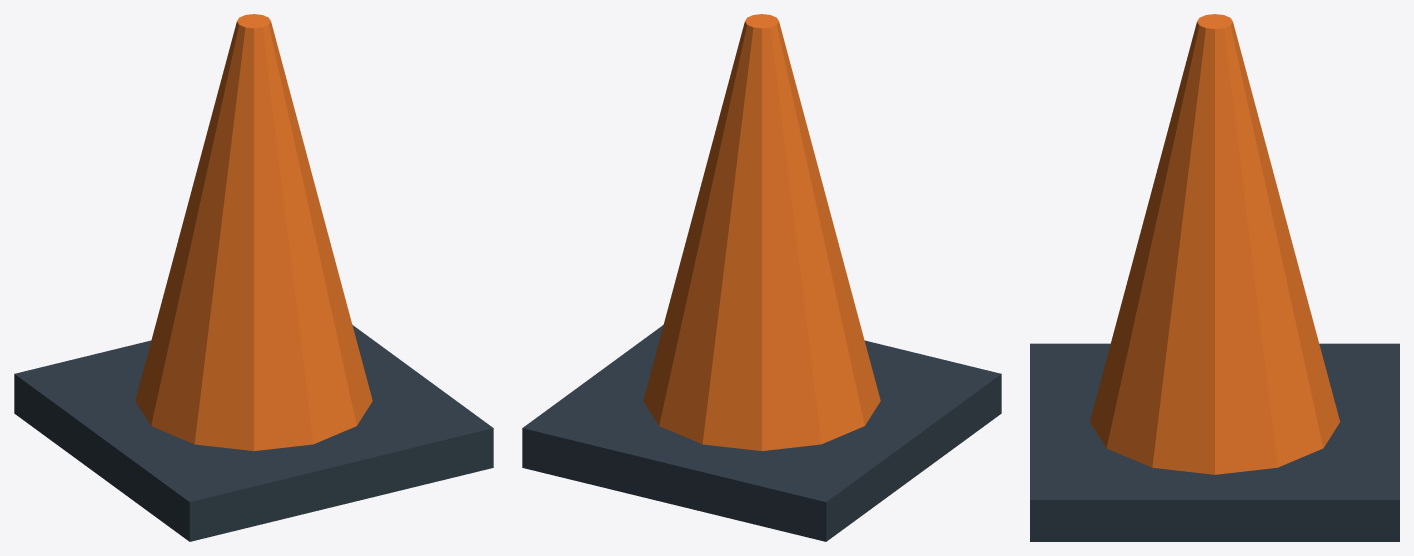
The model's file is editor_cone.obj.
3 views of the same model, side by side, from view 1: azimuth 30°, elevation 25°; view 2: azimuth 150°, elevation 25°; view 3: azimuth 270°, elevation 25° (orthographic). The views are drawn at different scales.
Size of the model in its own units: 1.44 by 1.9 by 1.44.
3 materials, 3 textured.
